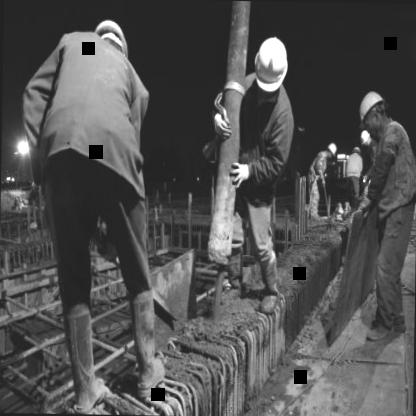helmet: (251, 31, 291, 97), (90, 17, 128, 62), (356, 87, 388, 138), (324, 141, 339, 162), (358, 129, 373, 149)
